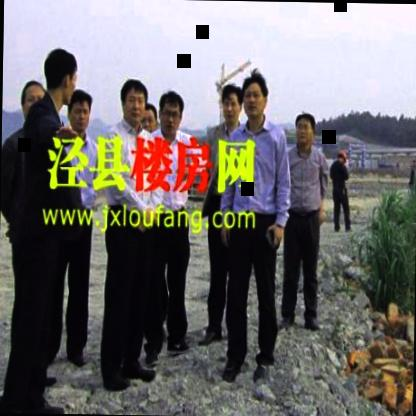head: (42, 42, 80, 108), (156, 86, 187, 140), (119, 76, 150, 130), (240, 72, 270, 122), (67, 86, 96, 136), (217, 78, 246, 127), (17, 80, 46, 124), (292, 108, 318, 152), (139, 101, 158, 140)
